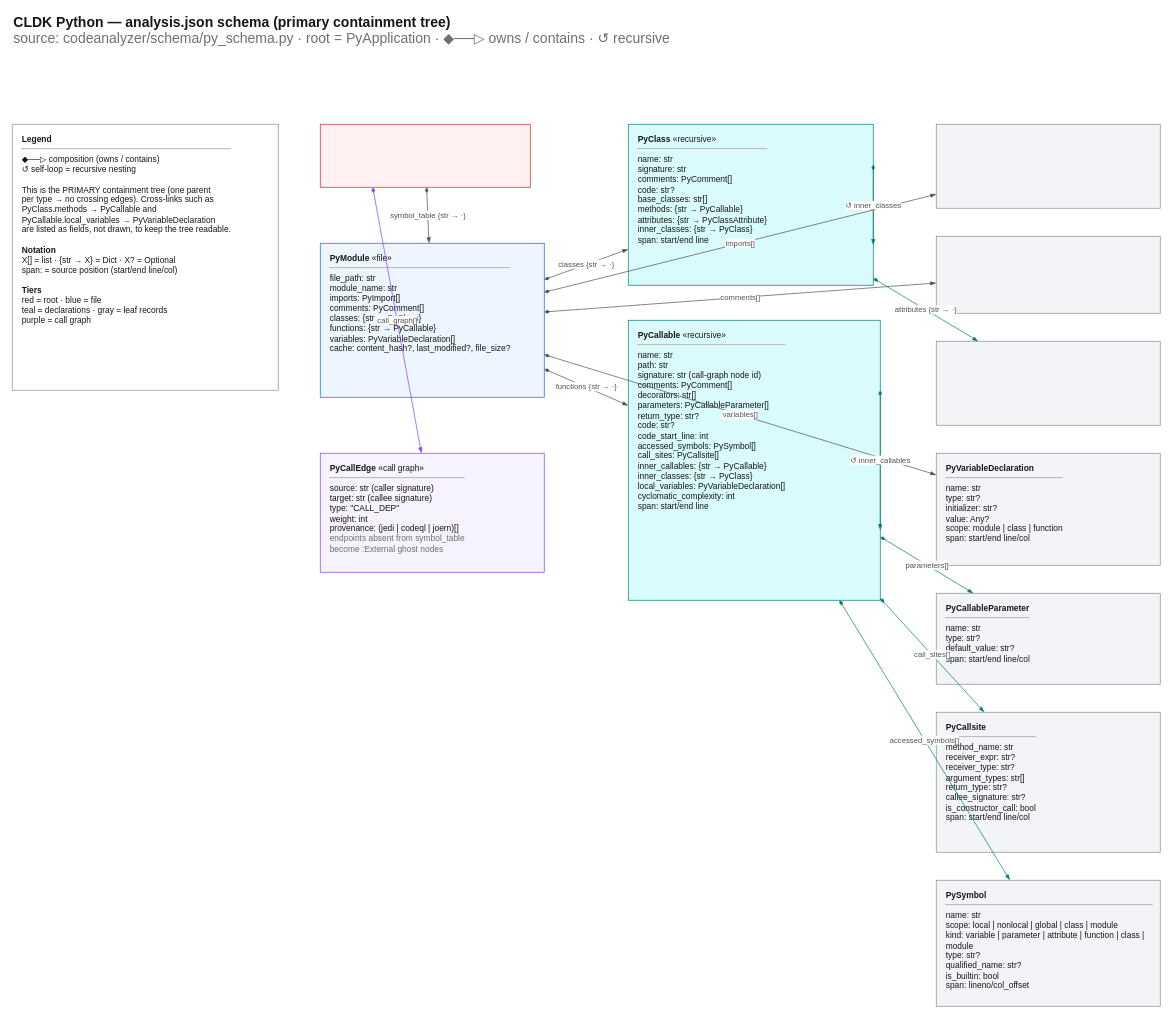
Image size: 1173x1019. Some labels were removed from this diagram. The shapes that lost their labels are listed below. From the top down, each one's centre as x and y in pixels, then its label:
At point (425, 155): "PyApplication «root» symbol_table: {str → PyModule} call_graph: PyCallEdge[]".
At point (1048, 166): "PyImport module: str name: str alias: str? span: line/col".
At point (1048, 274): "PyComment content: str is_docstring: bool span: line/col".
At point (1048, 383): "PyClassAttribute name: str type: str? comments: PyComment[] span: start/end line".
